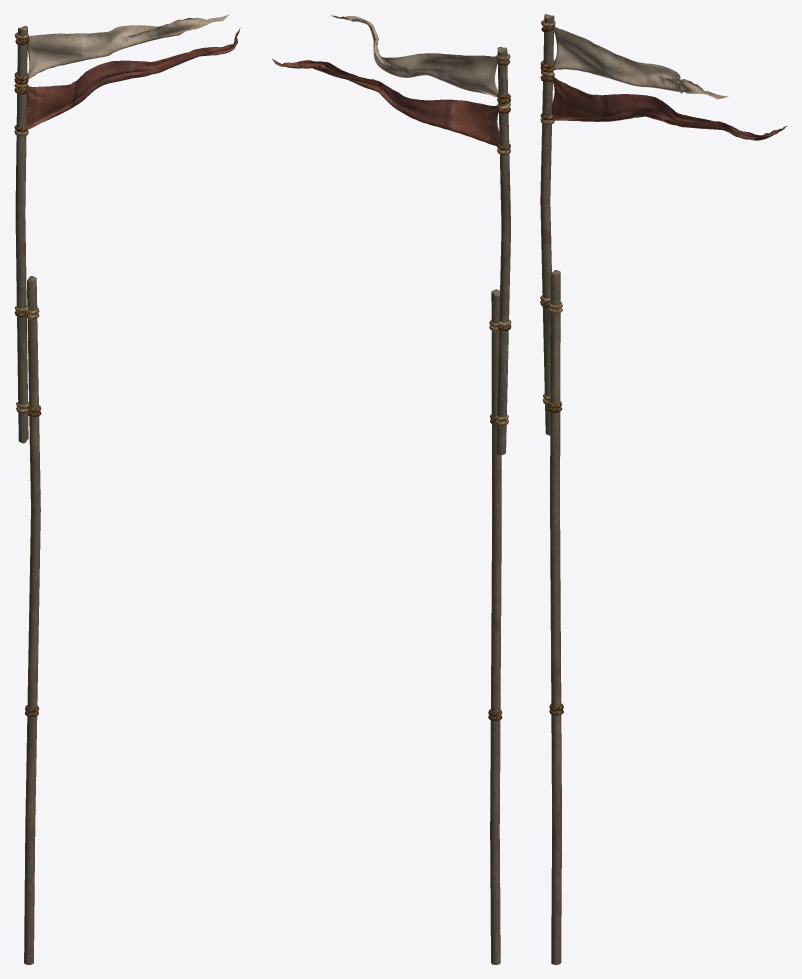
Rendered from ti_flag.glb.
3 renders of one model, left to right at view 1: azimuth 30°, elevation 25°; view 2: azimuth 150°, elevation 25°; view 3: azimuth 330°, elevation 25°, orthographic. The views are drawn at different scales.
Visible parts, largest first — view 1: KB3D_TIS_Flag_A_Main; view 2: KB3D_TIS_Flag_A_Main; view 3: KB3D_TIS_Flag_A_Main.
Part boxes in pixels (bbox=[...]): KB3D_TIS_Flag_A_Main: bbox=[14, 14, 240, 964]; KB3D_TIS_Flag_A_Main: bbox=[272, 15, 511, 964]; KB3D_TIS_Flag_A_Main: bbox=[540, 14, 786, 964].
Bounding box in the file's own units: 1.32 × 5.03 × 0.2817.
4 materials, 4 textured.
